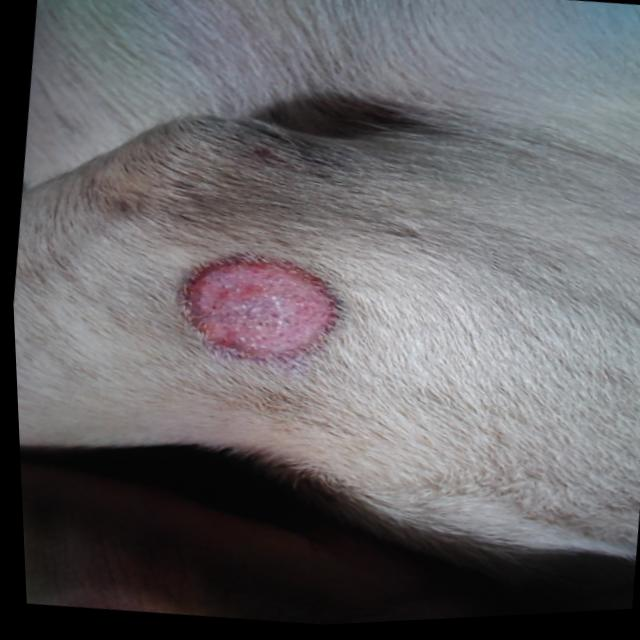ringworm: (150, 240, 344, 380)
